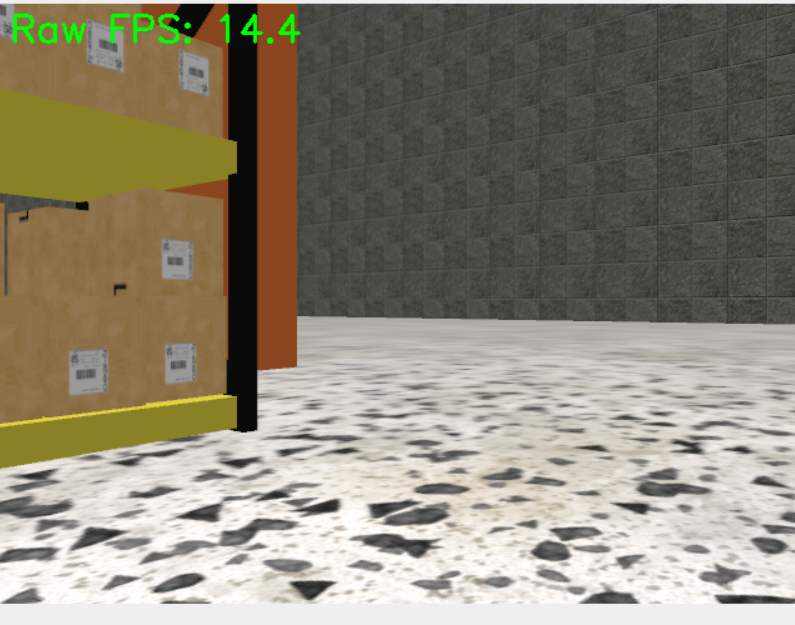barcode: (69, 348, 107, 395), (178, 48, 210, 96), (164, 344, 197, 385), (160, 239, 192, 280)
